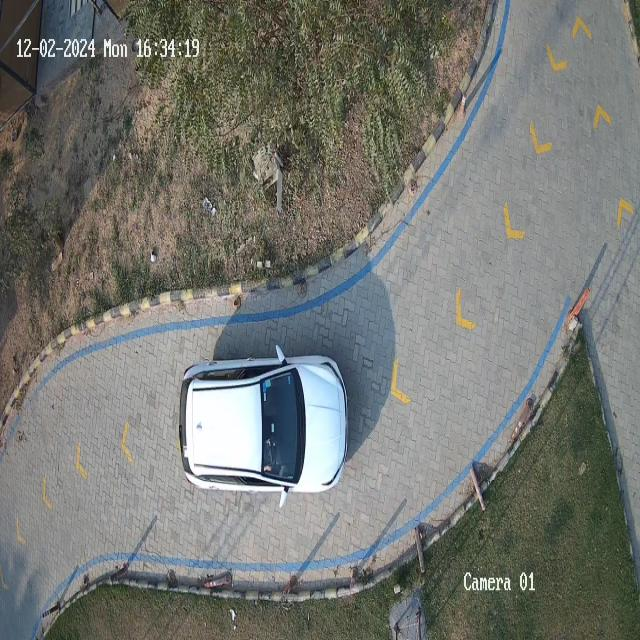car: (178, 355, 346, 495)
